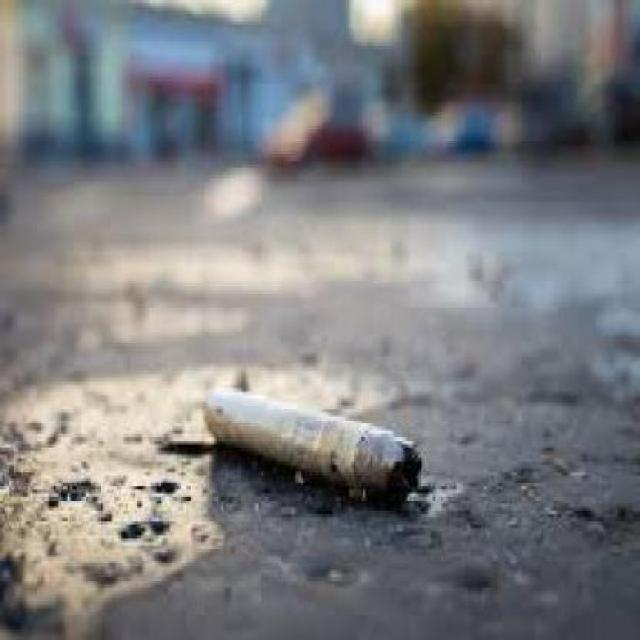cigarette: (195, 371, 433, 514)
